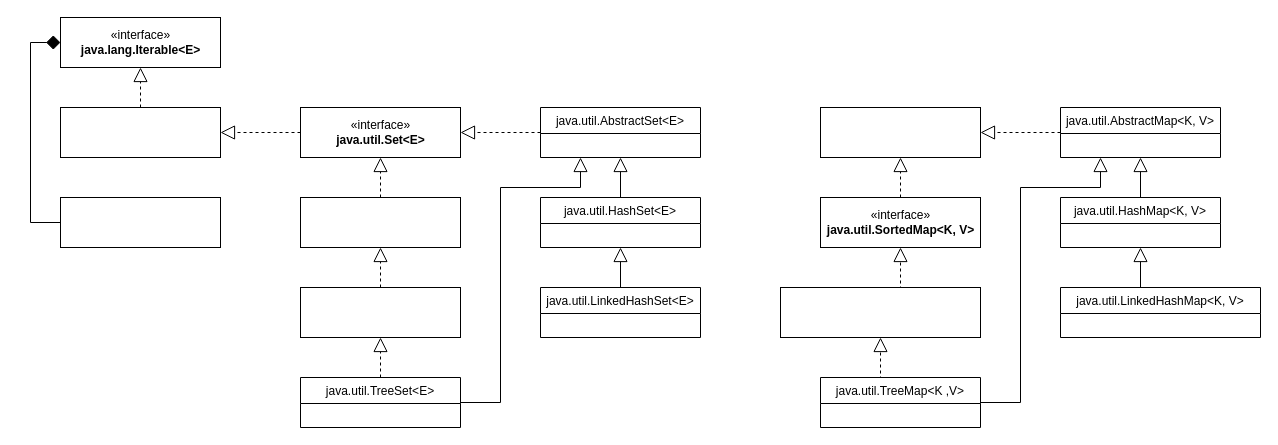
Image size: 1278x445. Some labels were removed from this diagram. Each missing label, with the box of its shape:
«interface» java.util.Collection<E>: (60, 106, 220, 158)
«interface» java.util.Iterator<E>: (60, 196, 220, 248)
«interface» java.util.Map<K, V>: (820, 106, 980, 158)
«interface» java.util.NavigableMap<K ,V>: (780, 286, 980, 338)
«interface» java.util.NavigableSet<E>: (300, 286, 460, 338)
«interface» java.util.SortedSet<E>: (300, 196, 460, 248)
